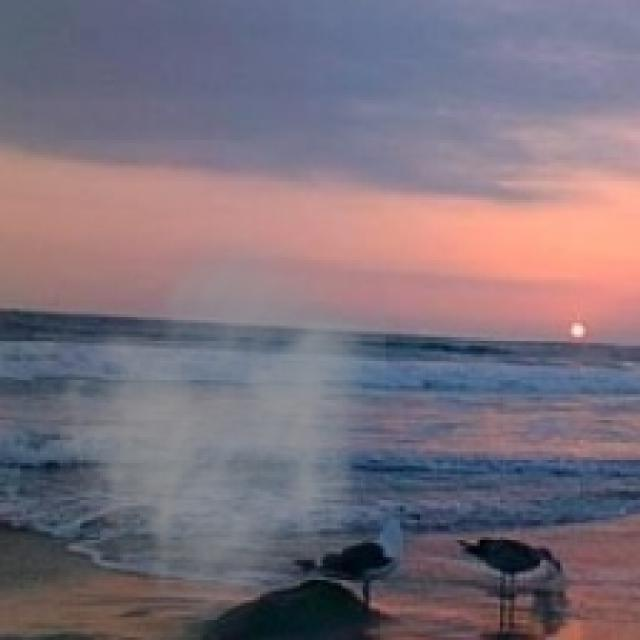smoke: (17, 217, 386, 637)
